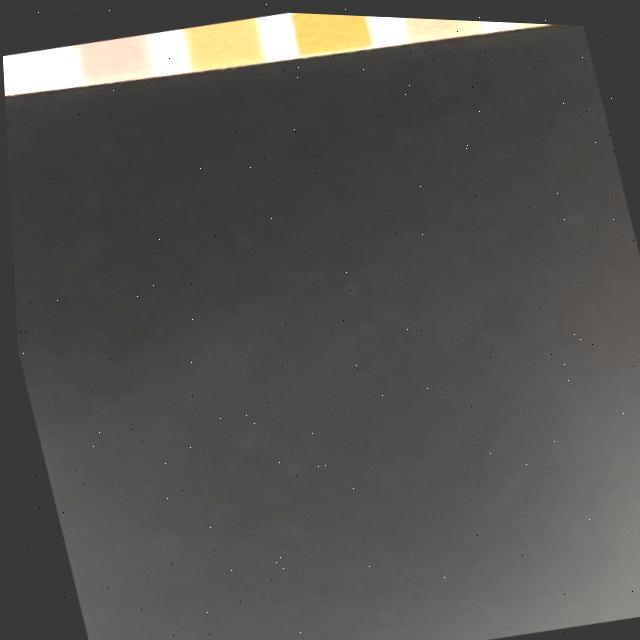Bilirubin: (2, 48, 52, 101)
Blood: (291, 10, 372, 56)
Ketone: (75, 31, 156, 87)
SpGravity: (181, 13, 266, 74)
pH: (403, 14, 481, 41)
